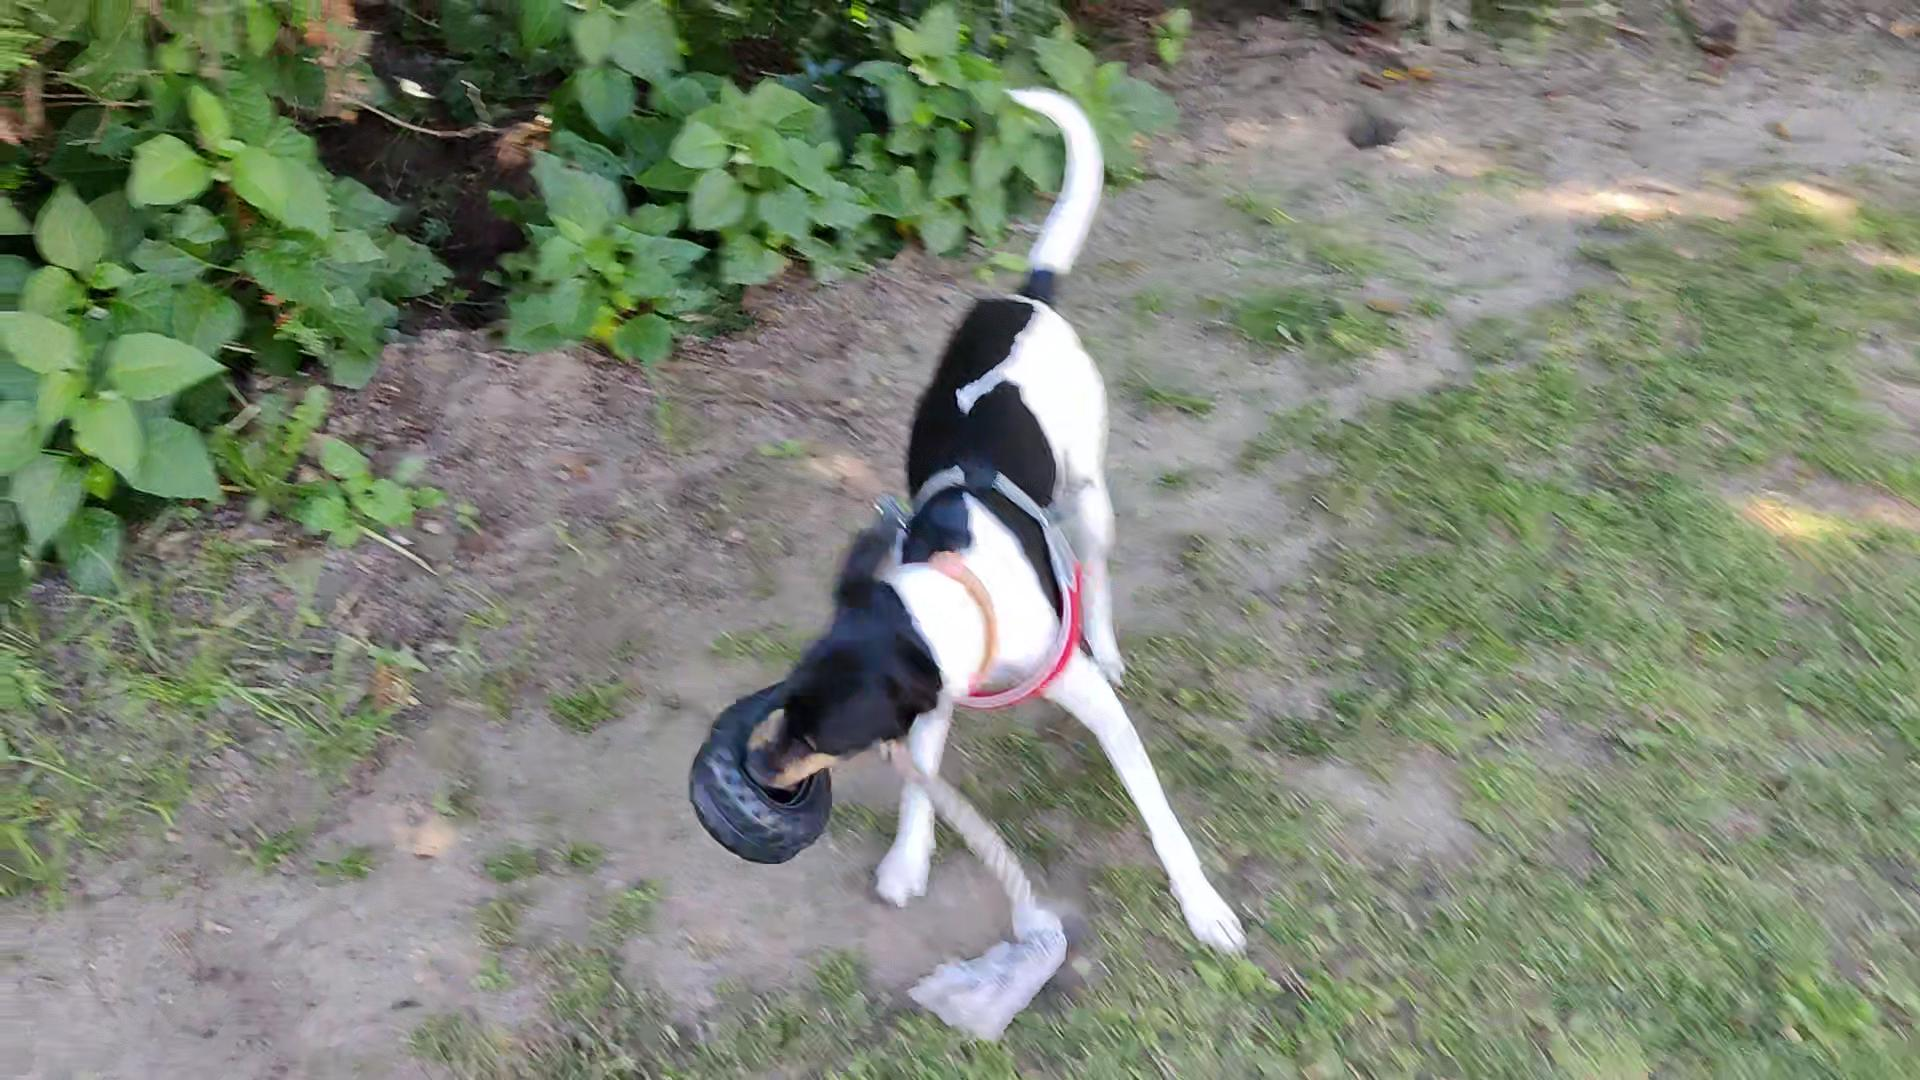Dog: (728, 74, 1262, 972)
